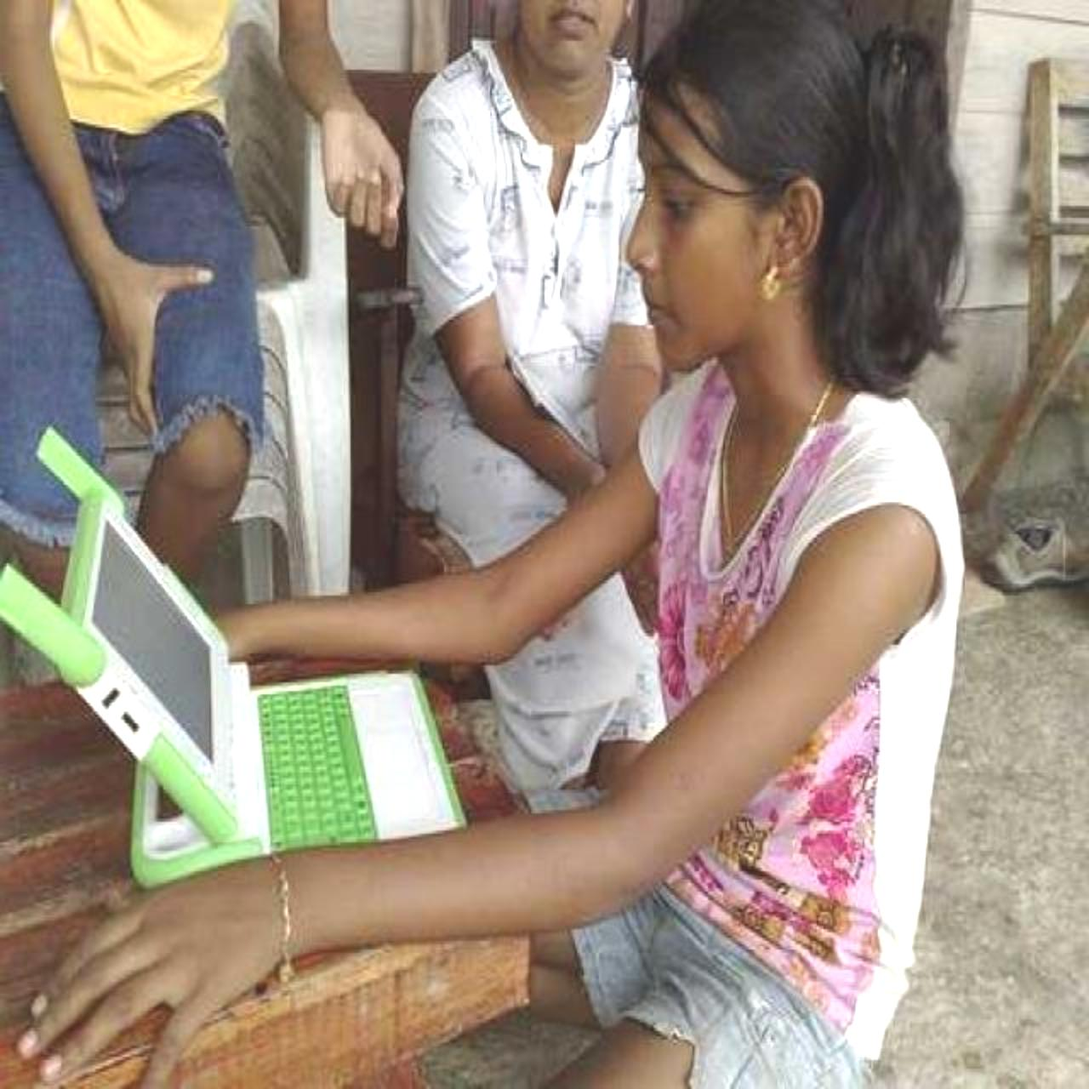laptop: (57, 502, 467, 873)
